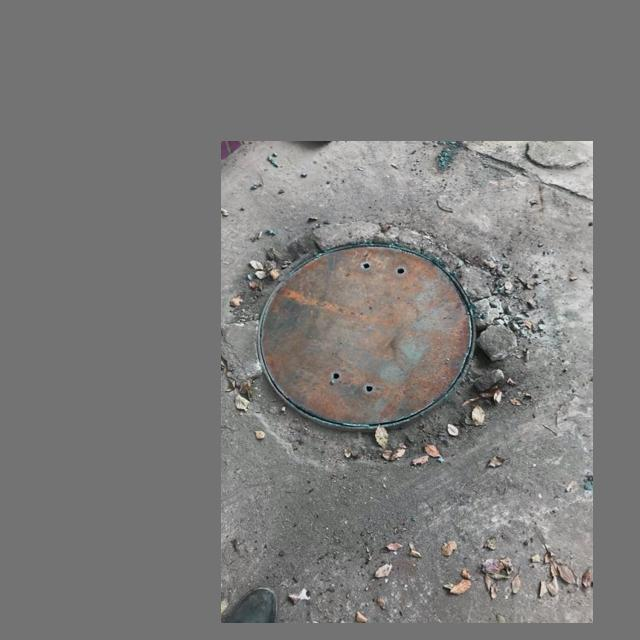circle: (231, 215, 548, 481)
